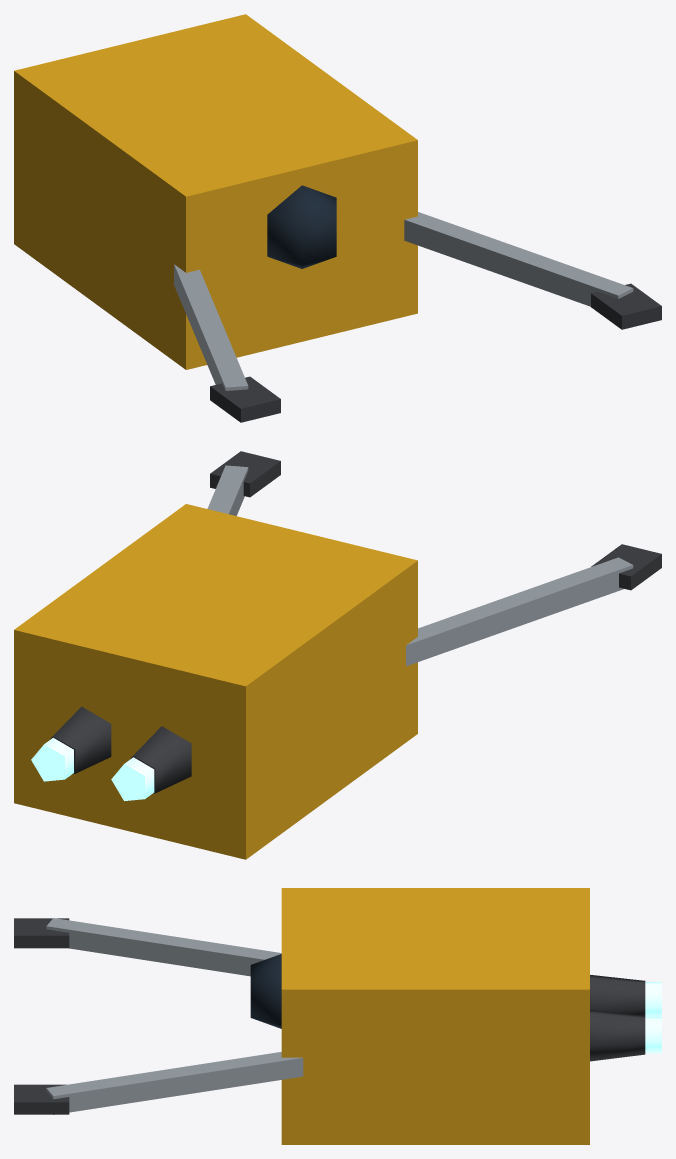
Rendered from space_ship_builder_drone_mk3_lod1.glb.
3 views of the same model, one above another, from view 1: azimuth 30°, elevation 25°; view 2: azimuth 150°, elevation 25°; view 3: azimuth 270°, elevation 25° (orthographic). The views are drawn at different scales.
Parts seen in each view (by area): view 1: body, arm_1, arm_0; view 2: body, arm_0, engine_1, engine_0, arm_1; view 3: body, arm_1, arm_0, engine_1, engine_0.
Part boxes in pixels (<box>): body: <box>14,14,417,369</box>; arm_1: <box>404,212,661,329</box>; arm_0: <box>174,264,280,422</box>; body: <box>14,504,417,859</box>; arm_0: <box>406,544,661,666</box>; engine_1: <box>31,706,111,781</box>; engine_0: <box>111,726,191,801</box>; arm_1: <box>207,451,280,515</box>; body: <box>250,888,589,1144</box>; arm_1: <box>14,1052,303,1114</box>; arm_0: <box>14,918,281,976</box>; engine_1: <box>590,1010,661,1061</box>; engine_0: <box>590,975,661,1016</box>.
Bounding box in the file's own units: 3.15 × 1.24 × 4.69.
